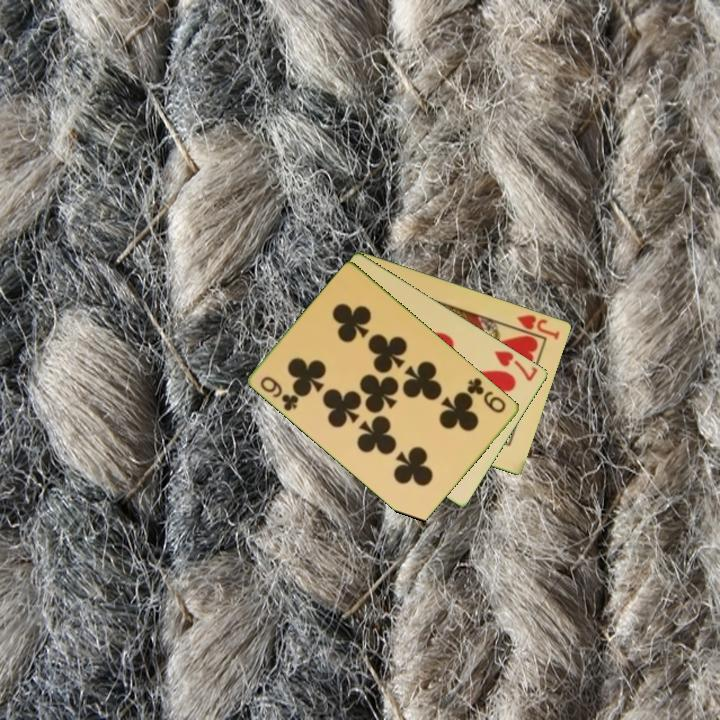7h: (491, 347, 541, 384)
9c: (464, 374, 509, 416), (257, 373, 302, 414)
Jh: (513, 311, 563, 342)
